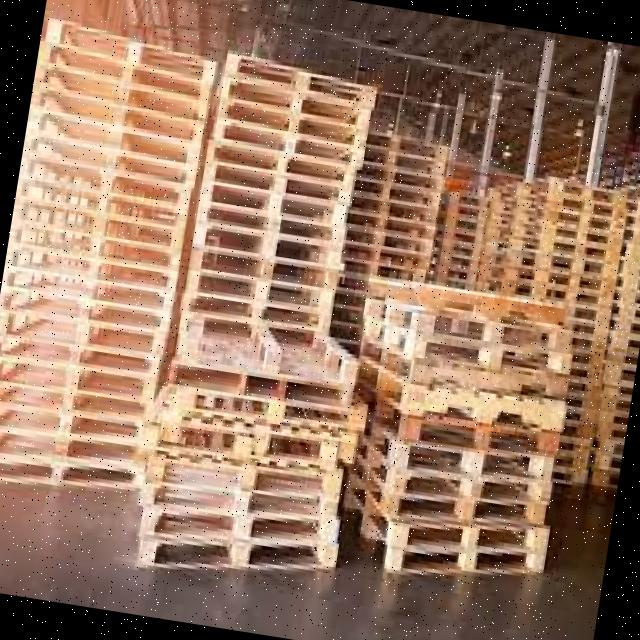Wooden-Pallets: (43, 16, 217, 85), (223, 41, 375, 119), (192, 240, 339, 308), (136, 536, 328, 585), (142, 455, 333, 503), (207, 159, 349, 215), (391, 519, 543, 562)
